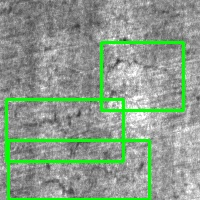crazing: (8, 140, 149, 199), (6, 99, 123, 161), (101, 42, 183, 110)
